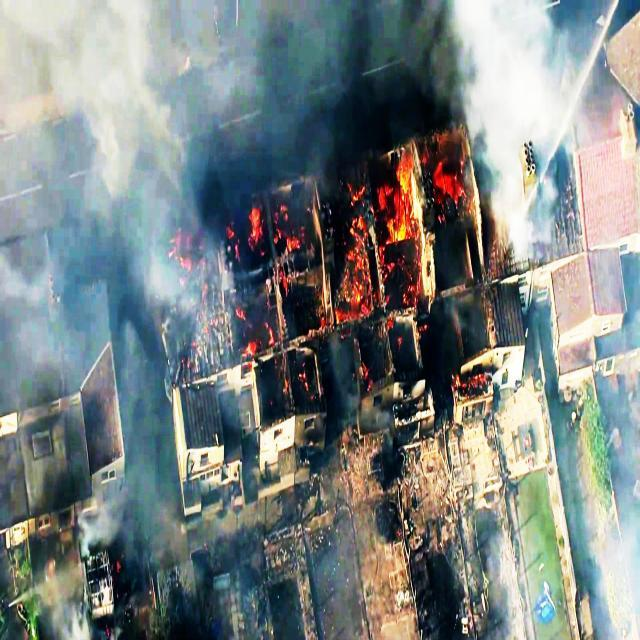Fire: (164, 132, 498, 402), (109, 557, 123, 579), (105, 623, 114, 639)
Smoke: (0, 2, 162, 542), (463, 0, 636, 261)
